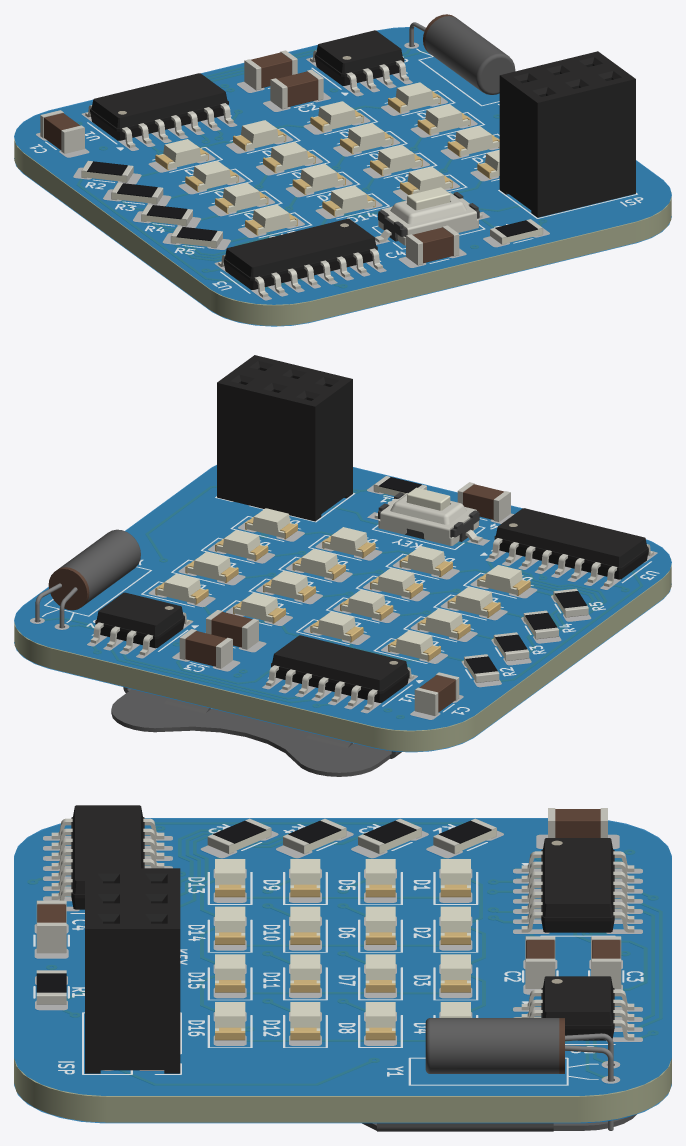
File: qron0b.glb
3 renders of one model, top to bottom at view 1: azimuth 30°, elevation 25°; view 2: azimuth 150°, elevation 25°; view 3: azimuth 270°, elevation 25°, orthographic. The views are drawn at different scales.
Parts seen in each view (by area): view 1: =>[0:1:1:19], =>[0:1:1:17], ISP, U3, =>[0:1:1:13], U1, Y1, =>[0:1:1:15], U2, KEY, =>[0:1:1:12], C2 (+24 smaller); view 2: =>[0:1:1:19], =>[0:1:1:17], ISP, BAT, U3, =>[0:1:1:13], U1, Y1, =>[0:1:1:15], KEY, U2, =>[0:1:1:12] (+26 smaller); view 3: =>[0:1:1:17], =>[0:1:1:19], ISP, =>[0:1:1:13], U1, =>[0:1:1:15], Y1, U3, =>[0:1:1:12], U2, BAT, C1 (+25 smaller).
Part boxes in pixels (x1=…): =>[0:1:1:19]: x1=14, y1=28, x2=671, y2=325; =>[0:1:1:17]: x1=14, y1=27, x2=671, y2=304; ISP: x1=499, y1=51, x2=635, y2=217; U3: x1=218, y1=218, x2=382, y2=297; =>[0:1:1:13]: x1=36, y1=42, x2=549, y2=300; U1: x1=85, y1=73, x2=233, y2=148; Y1: x1=409, y1=14, x2=515, y2=94; =>[0:1:1:15]: x1=30, y1=48, x2=643, y2=293; U2: x1=310, y1=30, x2=408, y2=93; KEY: x1=374, y1=187, x2=482, y2=245; =>[0:1:1:12]: x1=77, y1=49, x2=546, y2=288; C2: x1=270, y1=69, x2=323, y2=109; =>[0:1:1:19]: x1=14, y1=466, x2=671, y2=751; =>[0:1:1:17]: x1=14, y1=465, x2=671, y2=730; ISP: x1=217, y1=355, x2=352, y2=521; BAT: x1=111, y1=687, x2=401, y2=776; U3: x1=489, y1=508, x2=653, y2=586; =>[0:1:1:13]: x1=30, y1=485, x2=657, y2=719; U1: x1=266, y1=635, x2=414, y2=710; Y1: x1=35, y1=529, x2=140, y2=628; =>[0:1:1:15]: x1=42, y1=493, x2=659, y2=714; KEY: x1=374, y1=487, x2=482, y2=545; U2: x1=90, y1=592, x2=189, y2=655; =>[0:1:1:12]: x1=44, y1=486, x2=642, y2=718; =>[0:1:1:17]: x1=14, y1=818, x2=671, y2=1095; =>[0:1:1:19]: x1=14, y1=819, x2=671, y2=1122; ISP: x1=85, y1=868, x2=180, y2=1073; =>[0:1:1:13]: x1=34, y1=831, x2=642, y2=1083; U1: x1=521, y1=838, x2=634, y2=932; =>[0:1:1:15]: x1=33, y1=824, x2=643, y2=1085; Y1: x1=425, y1=1018, x2=613, y2=1130; U3: x1=51, y1=805, x2=164, y2=909; =>[0:1:1:12]: x1=28, y1=823, x2=661, y2=1084; U2: x1=521, y1=976, x2=634, y2=1040; BAT: x1=362, y1=1114, x2=636, y2=1131; C1: x1=548, y1=808, x2=607, y2=837.
Size of the model in its own units: 0.035 by 0.014 by 0.035.
